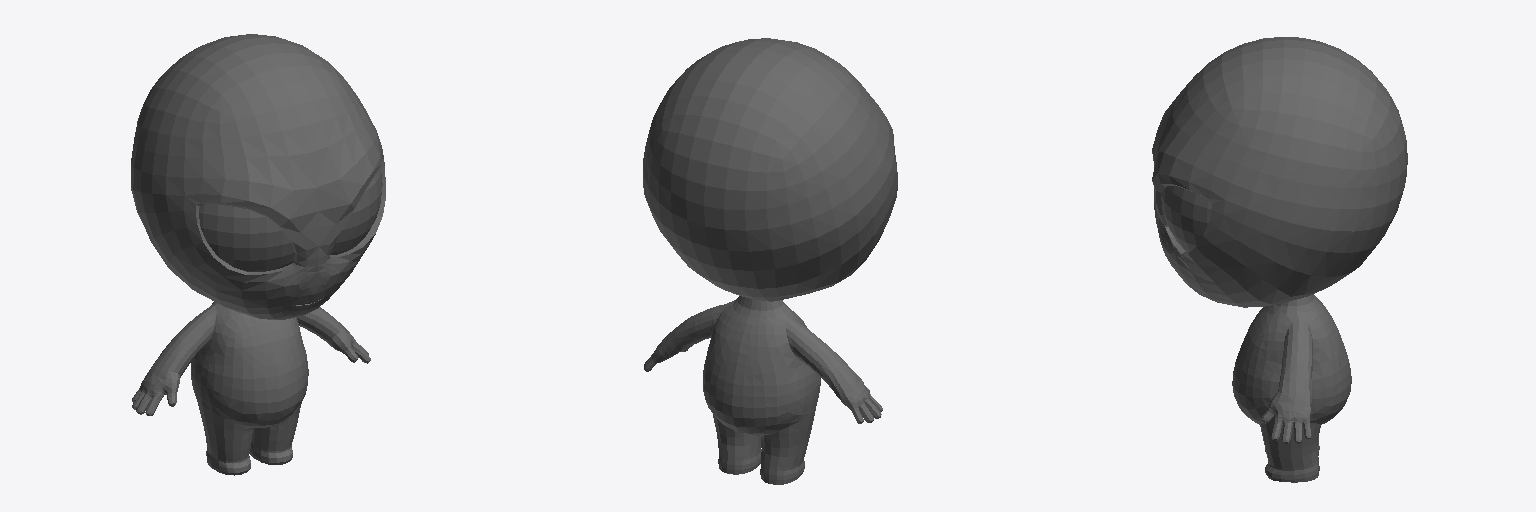
Rendered from Alien.obj.
3 renders of one model, left to right at view 1: azimuth 30°, elevation 25°; view 2: azimuth 150°, elevation 25°; view 3: azimuth 270°, elevation 25°, orthographic.
Visible parts, largest first — view 1: Alien; view 2: Alien; view 3: Alien.
Part boxes in pixels (bbox=[...]): Alien: bbox=[131, 34, 385, 475]; Alien: bbox=[643, 38, 897, 484]; Alien: bbox=[1152, 37, 1407, 482].
Bounding box in the file's own units: 75.16 × 129 × 71.73.